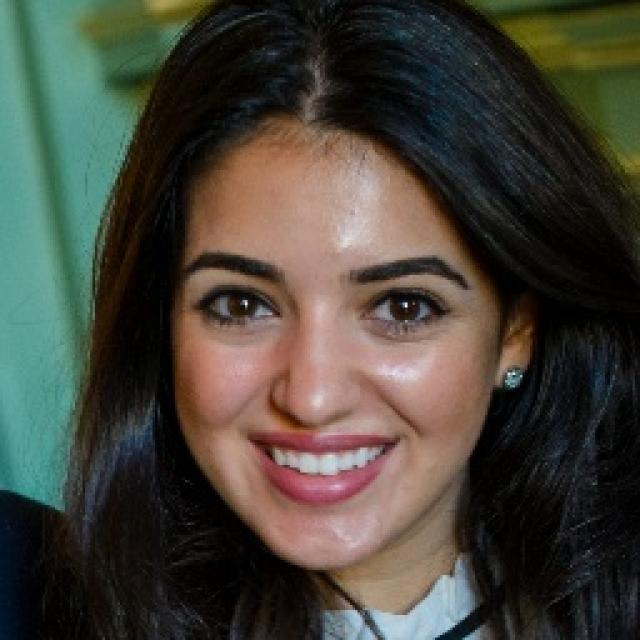earlobe: (495, 341, 534, 390)
eye: (198, 283, 286, 328), (359, 285, 445, 329)
nose: (268, 404, 362, 432)
wholeear: (494, 276, 540, 390)
